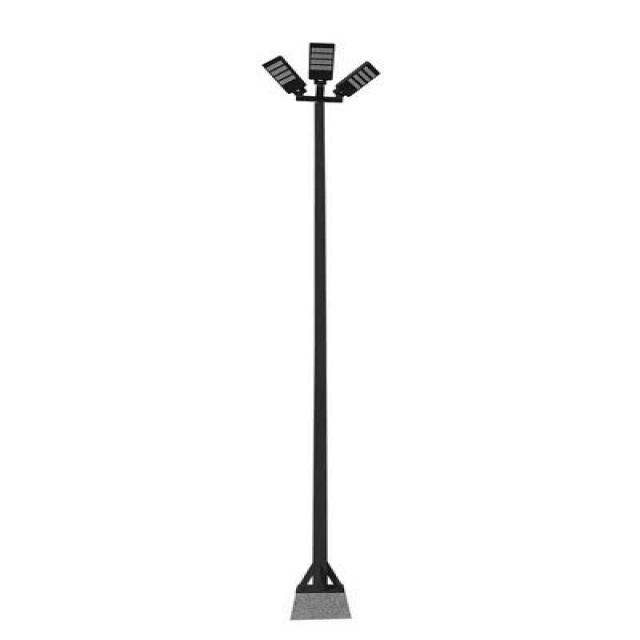Pole: (262, 43, 380, 620)
